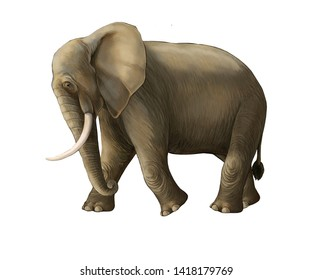elephant: (46, 19, 269, 217)
